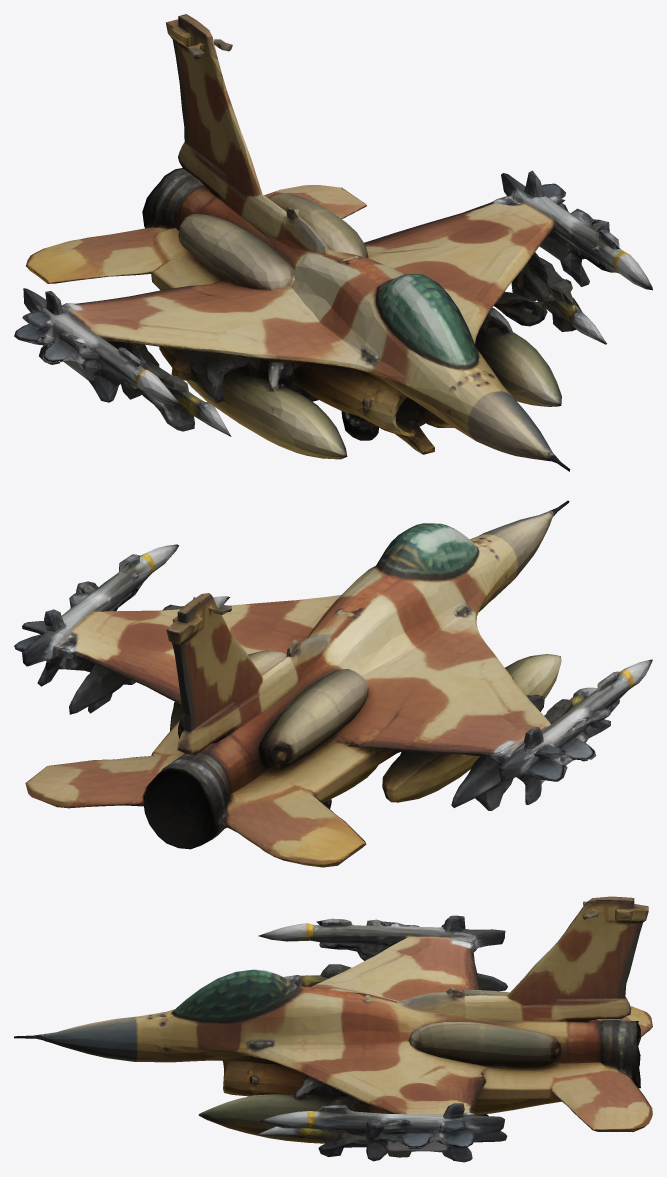
Rendered from unit_jet_f16.glb.
3 renders of one model, top to bottom at view 1: azimuth 30°, elevation 25°; view 2: azimuth 150°, elevation 25°; view 3: azimuth 270°, elevation 25°, orthographic. The views are drawn at different scales.
Parts seen in each view (by area): view 1: world; view 2: world; view 3: world.
Boxes of the visible parts, x1,y1,x2,y2 form: world: (14, 14, 652, 471); world: (14, 500, 652, 867); world: (14, 896, 652, 1162).
Bounding box in the file's own units: 0.7912 × 0.4041 × 0.9941.
Materials: 1 (1 with a texture image).
